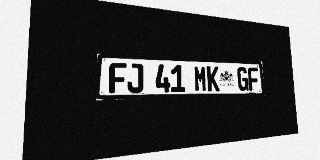1: (170, 65, 185, 92)
4: (155, 64, 170, 92)
F: (109, 63, 126, 93), (248, 67, 259, 91)
G: (237, 67, 249, 91)
J: (127, 63, 143, 93)
K: (207, 66, 220, 91)
M: (194, 65, 207, 92)
